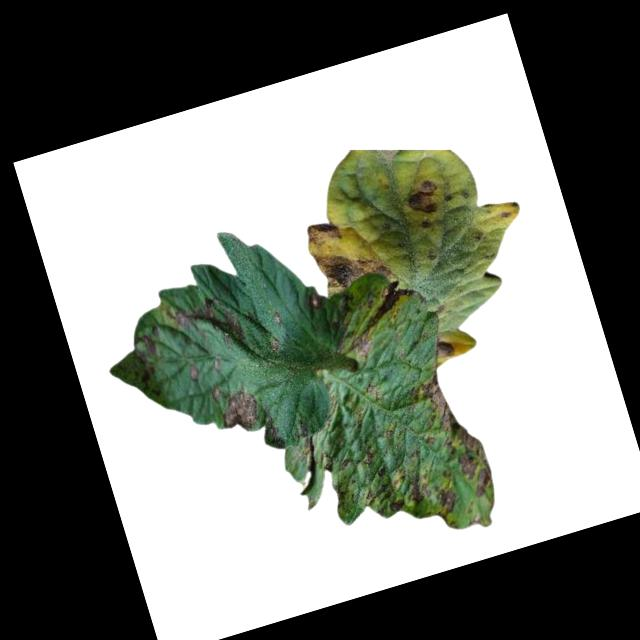Early_blight: (415, 363, 496, 504), (333, 276, 429, 361), (165, 288, 246, 362), (312, 233, 392, 299), (357, 455, 435, 521), (209, 374, 263, 437), (402, 176, 454, 220), (302, 218, 343, 253), (136, 324, 168, 364), (431, 486, 459, 522), (430, 336, 457, 360), (184, 361, 203, 385), (306, 289, 324, 311), (361, 449, 378, 467), (418, 216, 435, 232)
